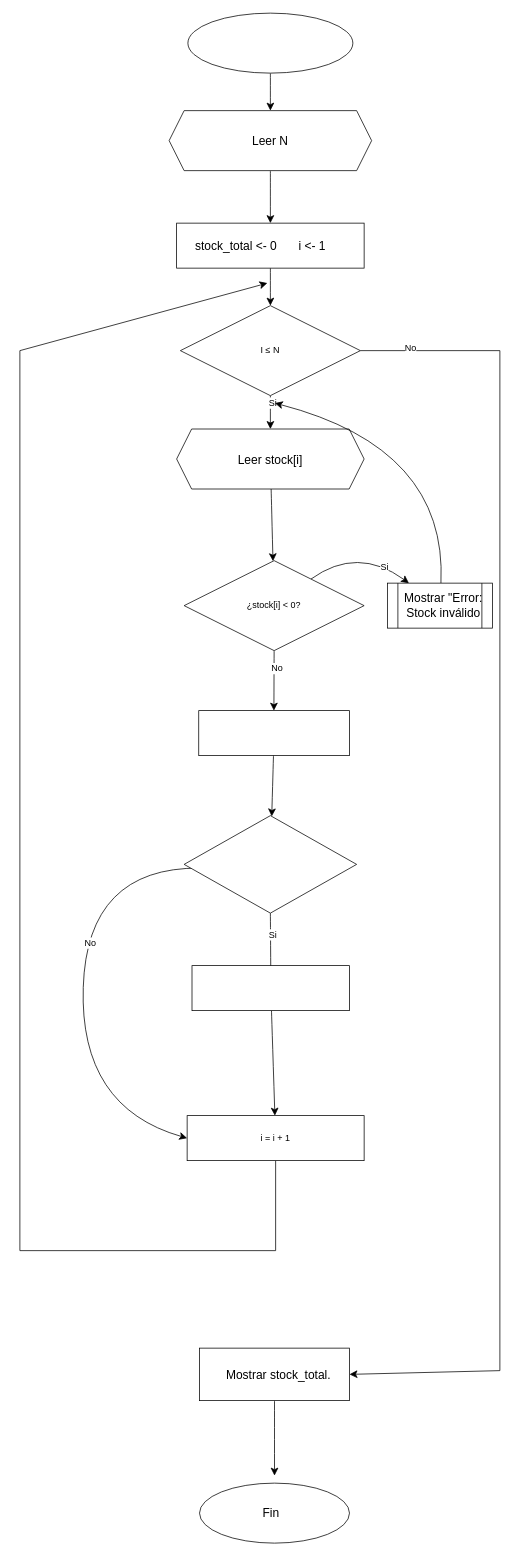
The diagram is 521 pixels wide and 1556 high, and some of its shapes have lost their labels. The shapes that lost their labels are listed below. From the top down, each one's centre as x and y in pixels, then its label:
(x=270, y=42): Inicio
(x=274, y=733): stock_total <- stock_total + stock[i]
(x=270, y=864): ¿stock[i] == 0?
(x=270, y=988): "Producto agotado en la posición: " + i
